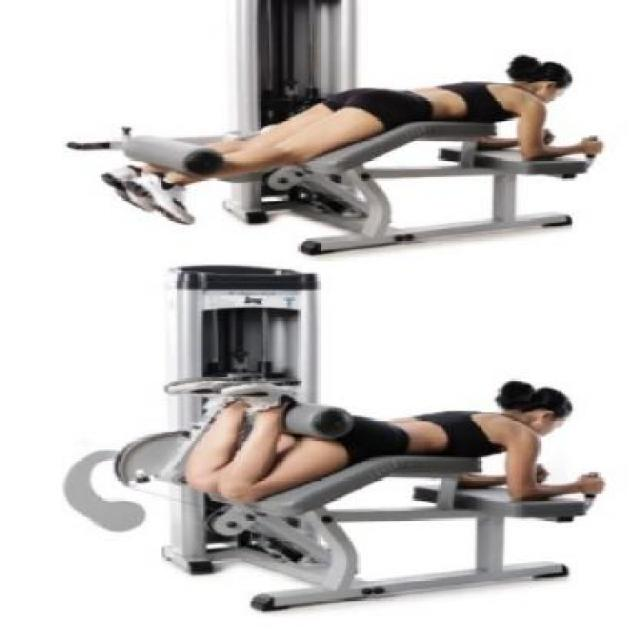reg curl machine: (59, 250, 618, 616), (47, 0, 618, 262)
